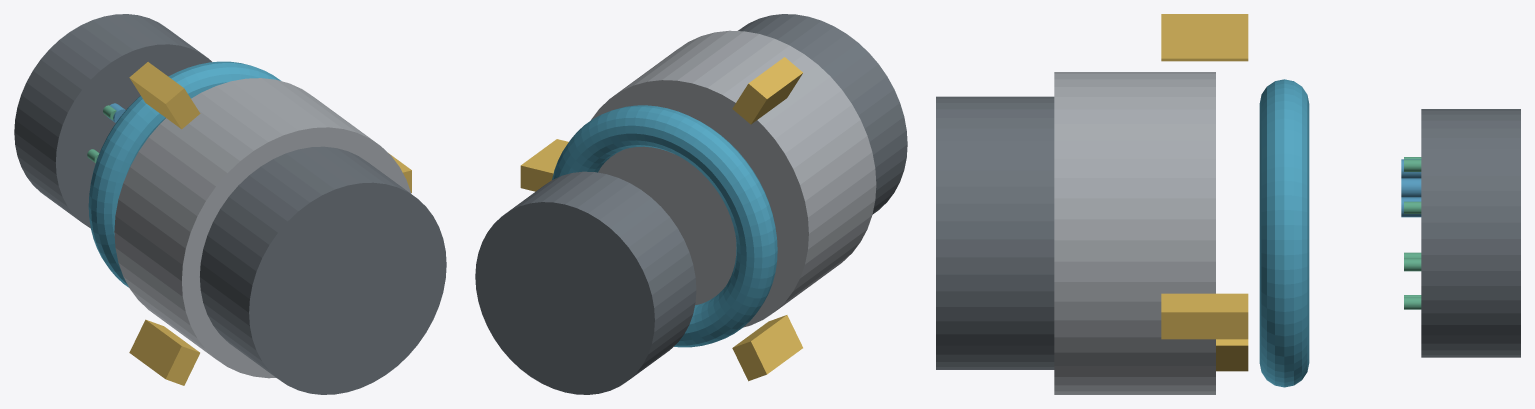
File: dranmar_universal_tool_changer_exploded.glb
3 renders of one model, left to right at view 1: azimuth 30°, elevation 25°; view 2: azimuth 150°, elevation 25°; view 3: azimuth 270°, elevation 25°, orthographic. The views are drawn at different scales.
Visible parts, largest first — view 1: mount, body, tool_adapter, lock_ring, latch_2, latch_1; view 2: body, tool_adapter, lock_ring, mount, latch_2, latch_1, latch_0; view 3: body, mount, tool_adapter, lock_ring, latch_1, latch_0, latch_2.
Boxes of the visible parts, x1,y1,x2,y2 form: mount: [200, 146, 446, 394]; body: [114, 78, 411, 378]; tool_adapter: [14, 14, 212, 228]; lock_ring: [88, 61, 280, 287]; latch_2: [129, 319, 199, 385]; latch_1: [129, 62, 200, 129]; body: [590, 30, 876, 327]; tool_adapter: [475, 171, 696, 394]; lock_ring: [552, 105, 777, 347]; mount: [738, 14, 907, 214]; latch_2: [732, 315, 802, 381]; latch_1: [732, 57, 802, 124]; latch_0: [520, 139, 568, 191]; body: [1054, 72, 1215, 394]; mount: [936, 96, 1054, 369]; tool_adapter: [1421, 109, 1520, 357]; lock_ring: [1259, 79, 1309, 387]; latch_1: [1161, 14, 1248, 61]; latch_0: [1161, 293, 1248, 339]; latch_2: [1216, 339, 1248, 371].
Size of the model in its own units: 0.153 by 0.1584 by 0.235.
